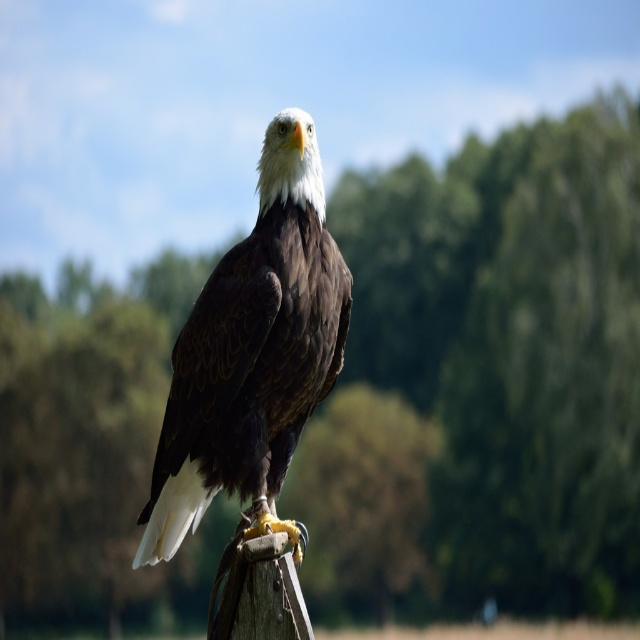Eagle: (134, 106, 355, 571)
